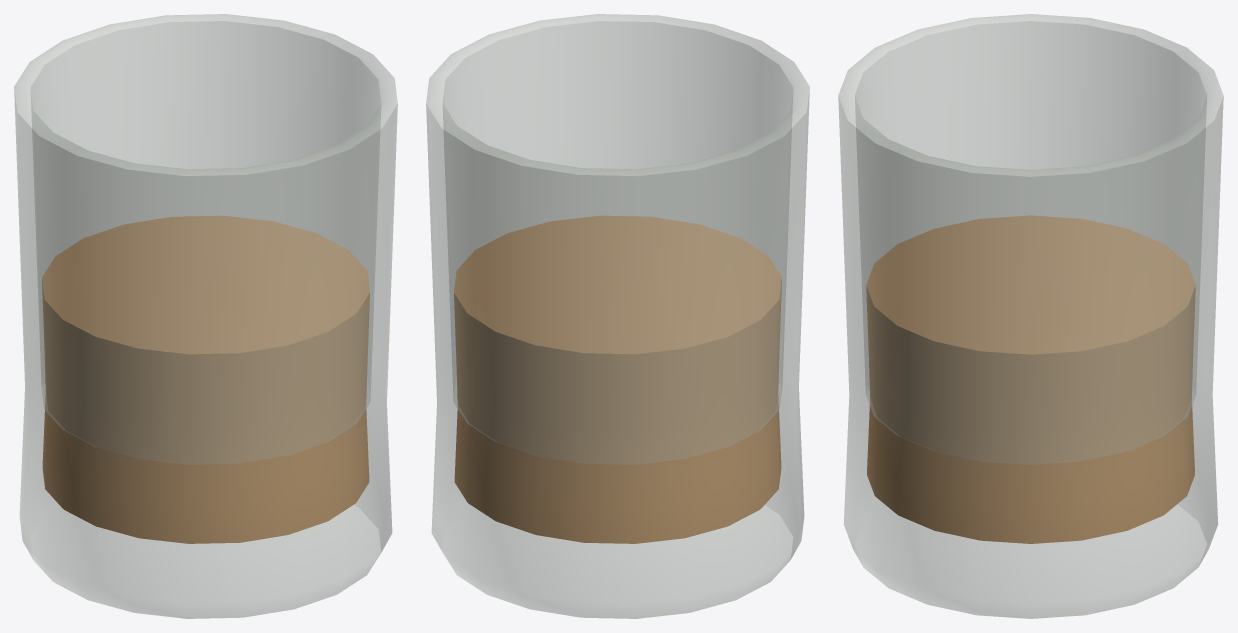
File: drink-6.glb
3 views of the same model, side by side, from view 1: azimuth 30°, elevation 25°; view 2: azimuth 150°, elevation 25°; view 3: azimuth 270°, elevation 25° (orthographic).
Visible parts, largest first — view 1: glass, liquid; view 2: glass, liquid; view 3: glass, liquid.
Part boxes in pixels (left/top/right/bottom): glass: left=14, top=14, right=397, bottom=618; liquid: left=42, top=215, right=369, bottom=543; glass: left=426, top=14, right=809, bottom=618; liquid: left=454, top=215, right=781, bottom=543; glass: left=838, top=14, right=1223, bottom=618; liquid: left=866, top=215, right=1195, bottom=543.
Bounding box in the file's own units: 0.07 × 0.0904 × 0.07.
